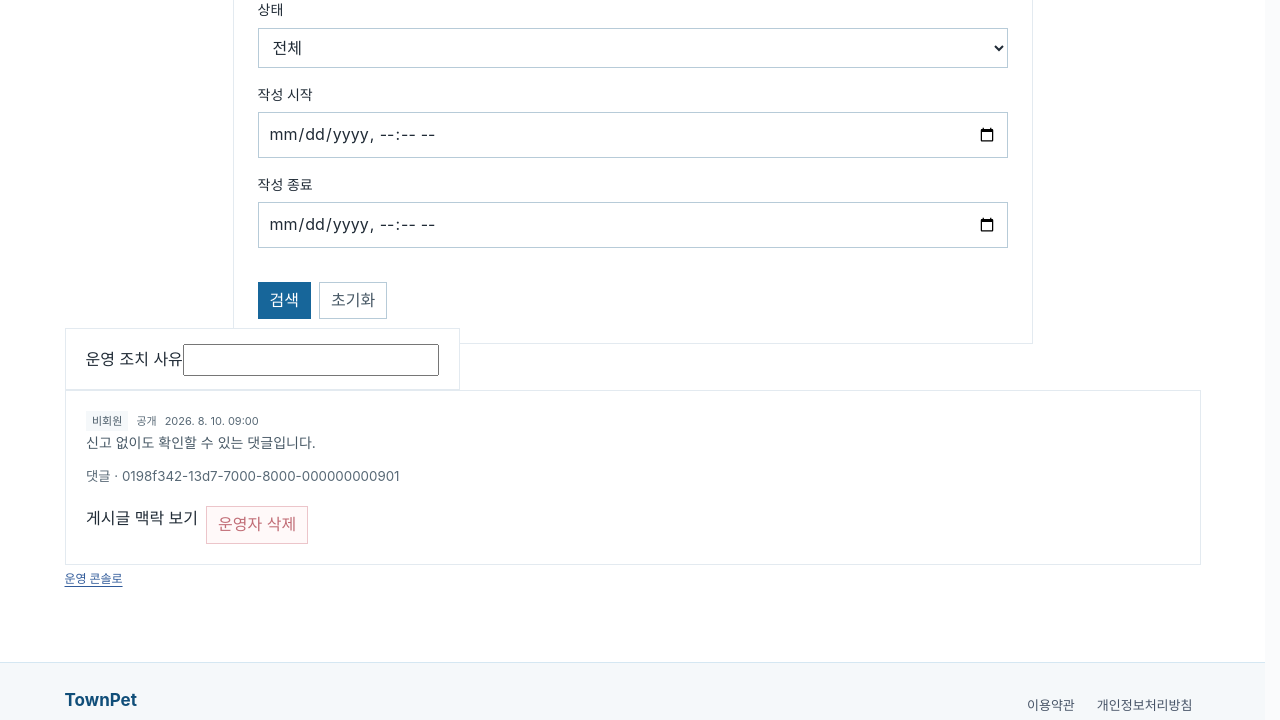
Test: Admin comment moderation › finds and removes a comment without a report, retaining the action reason
(page scrolled)
Expected: the text "신고 없이도 확인할 수 있는 댓글입니다." is shown, [86,434,315,451]
Step 1. Type "운영 기준 위반" into the field labelled "운영 조치 사유" → {"x": 311, "y": 360}, box [183,344,439,376]
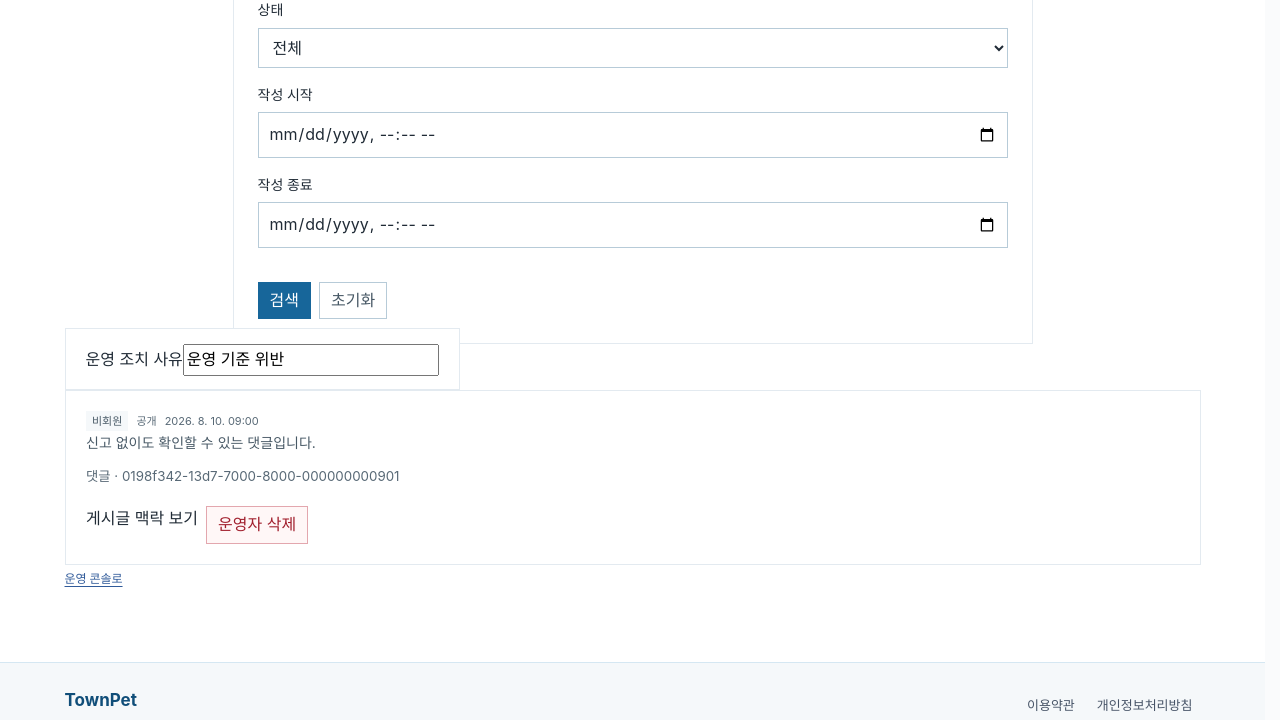
Step 2. Click the button "운영자 삭제" → {"x": 257, "y": 525}, box [206,506,308,544]
(page scrolled)
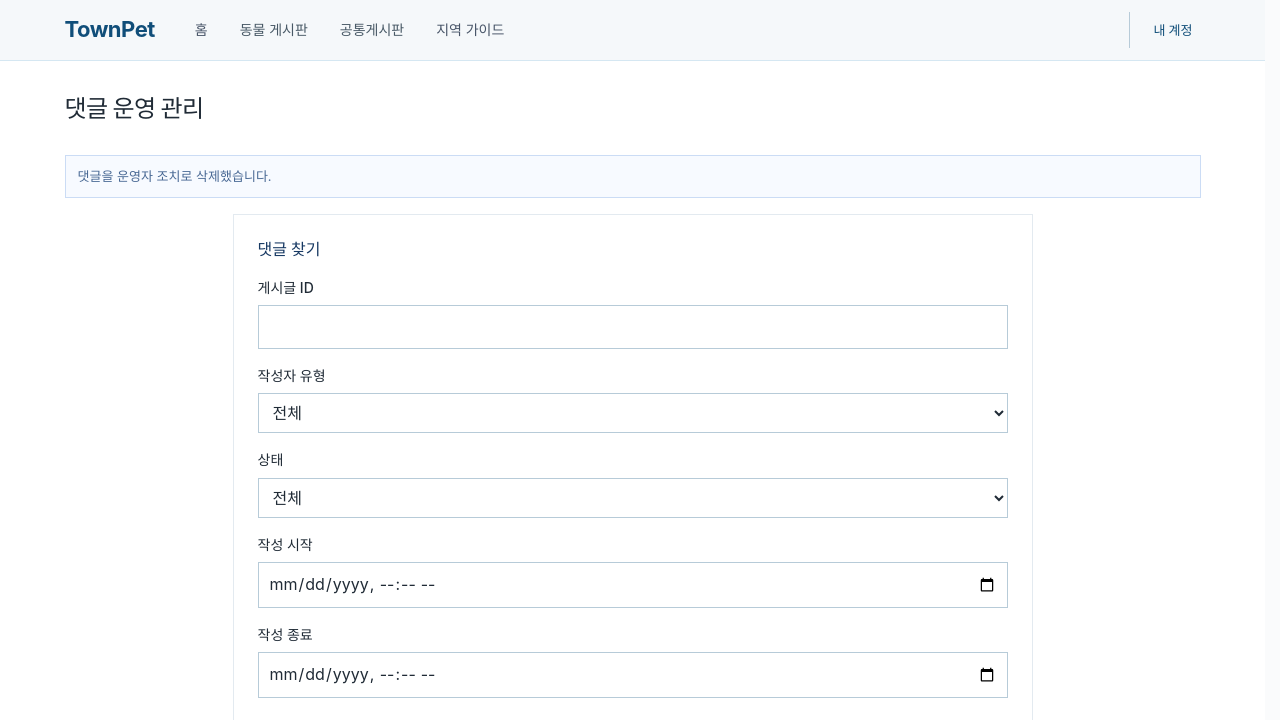
Expected: the text "댓글을 운영자 조치로 삭제했습니다." is shown, [64,155,1200,198]
